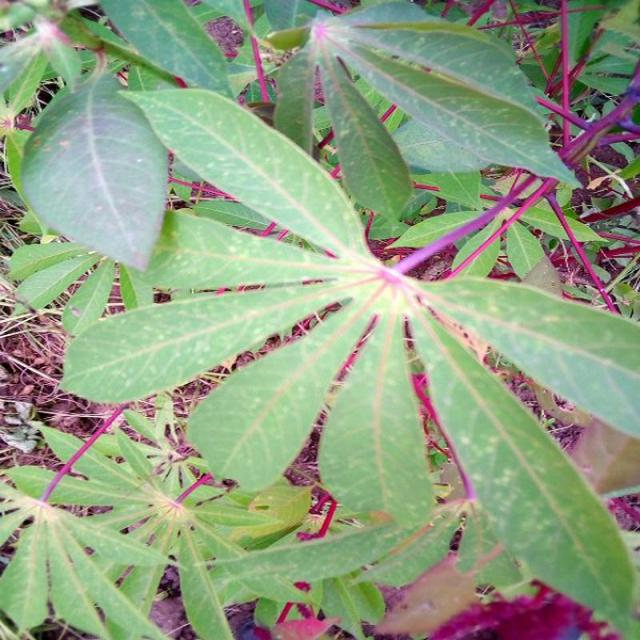cassava leaf: (5, 2, 638, 637), (311, 0, 580, 189), (18, 67, 169, 272)
